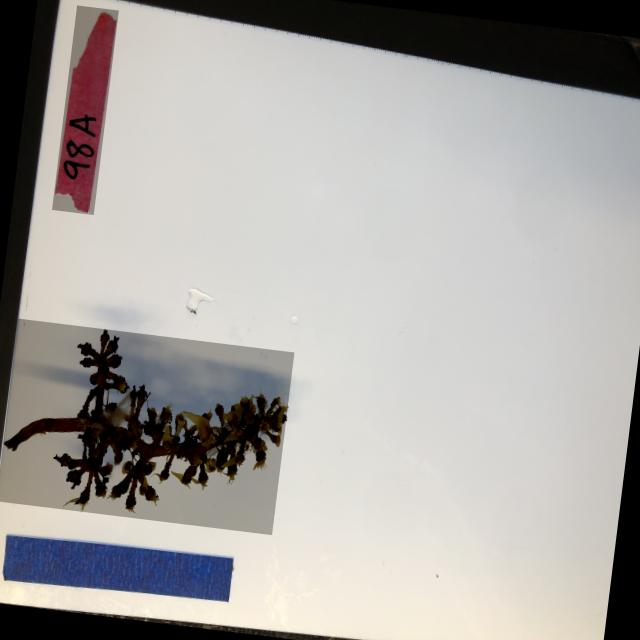index: (52, 4, 118, 214)
measure_label: (0, 525, 236, 607)
rachis_cluster: (0, 317, 294, 534)
